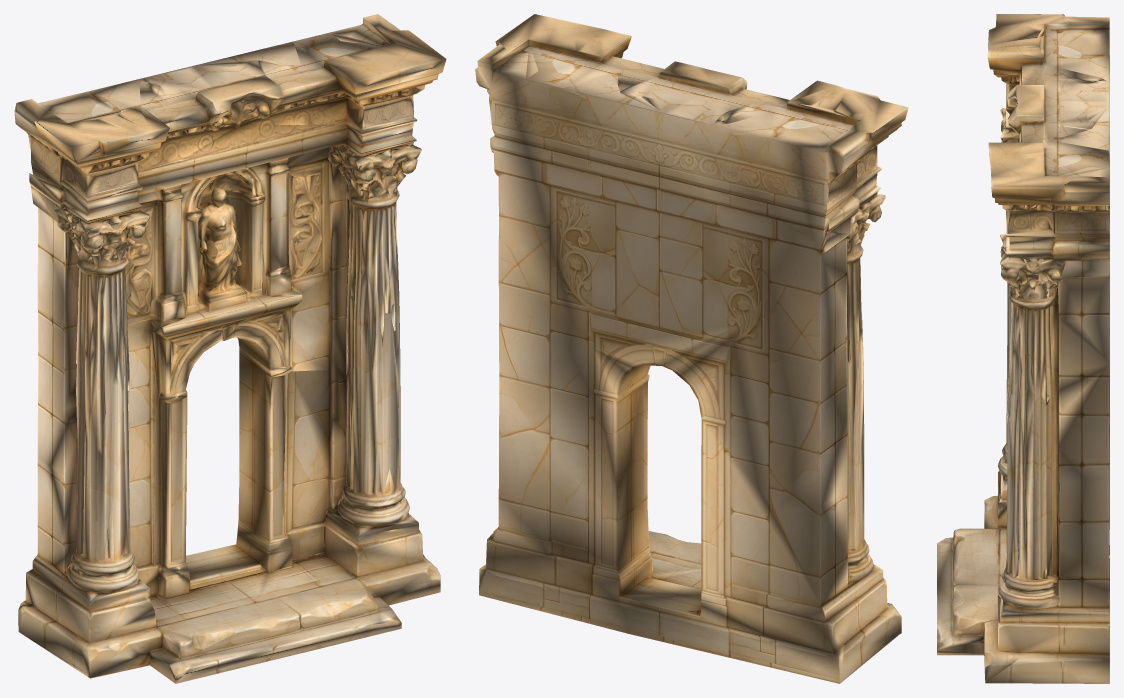
Rendered from city_izmir_celsus_facade.glb.
3 renders of one model, left to right at view 1: azimuth 30°, elevation 25°; view 2: azimuth 150°, elevation 25°; view 3: azimuth 270°, elevation 25°, orthographic. The views are drawn at different scales.
Parts seen in each view (by area): view 1: Mesh1.0; view 2: Mesh1.0; view 3: Mesh1.0.
Part boxes in pixels (x1=…): Mesh1.0: x1=14, y1=14, x2=446, y2=683; Mesh1.0: x1=475, y1=14, x2=908, y2=683; Mesh1.0: x1=937, y1=14, x2=1109, y2=683.
Bounding box in the file's own units: 3.68 × 5 × 1.56.
Materials: 1 (1 with a texture image).
